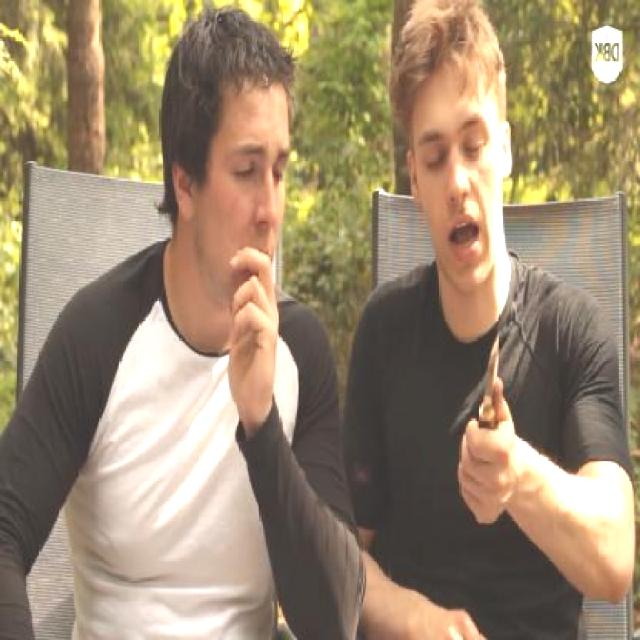knife: (452, 317, 531, 495)
